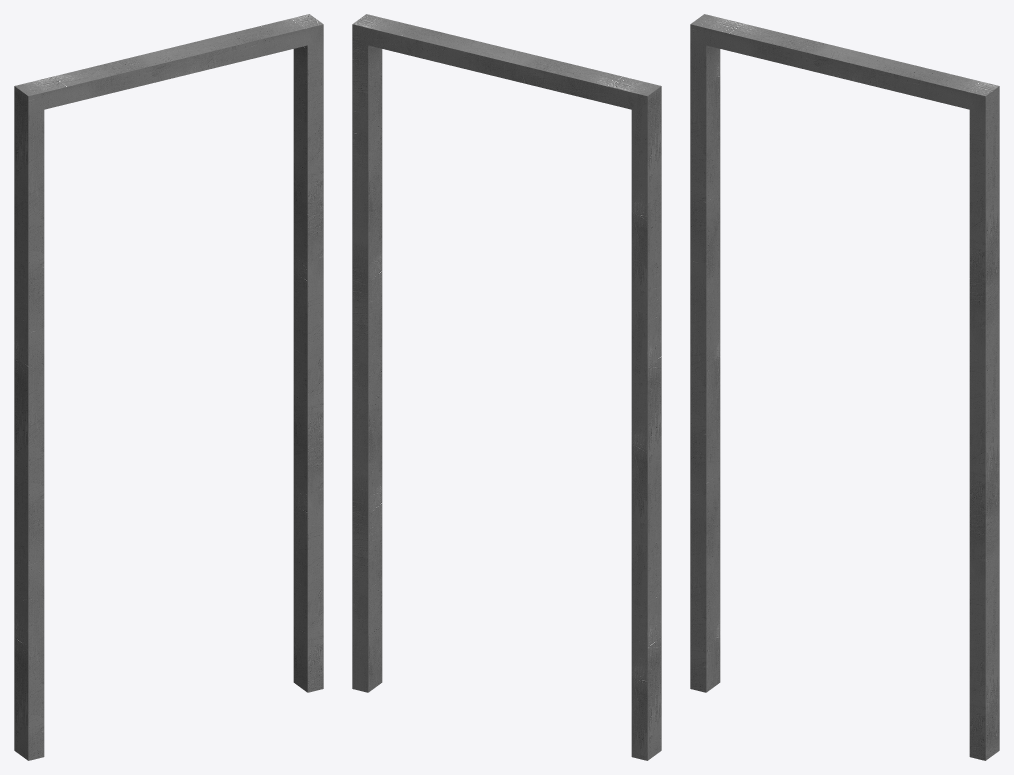
File: SM_Door_frame_Lab.fbx
3 views of the same model, side by side, from view 1: azimuth 30°, elevation 25°; view 2: azimuth 150°, elevation 25°; view 3: azimuth 330°, elevation 25° (orthographic).
Parts seen in each view (by area): view 1: Cube.001; view 2: Cube.001; view 3: Cube.001.
Boxes of the visible parts, x1,y1,x2,y2 form: Cube.001: [14, 14, 323, 760]; Cube.001: [352, 14, 661, 760]; Cube.001: [690, 14, 999, 760].
Bounding box in the file's own units: 93.04 × 200 × 7.66.
